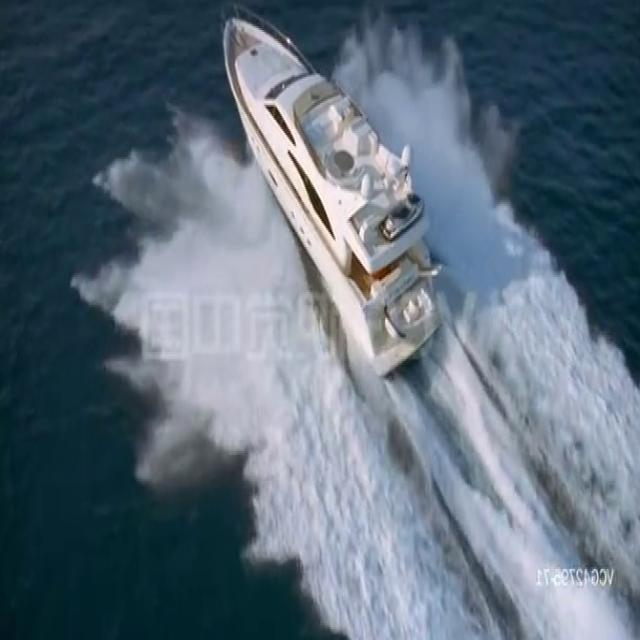houseboat: (218, 0, 434, 378)
